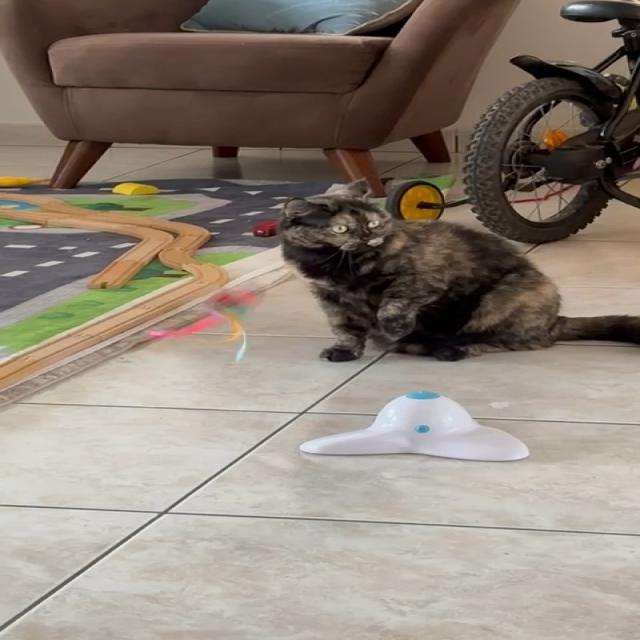authorized: (274, 178, 638, 362)
